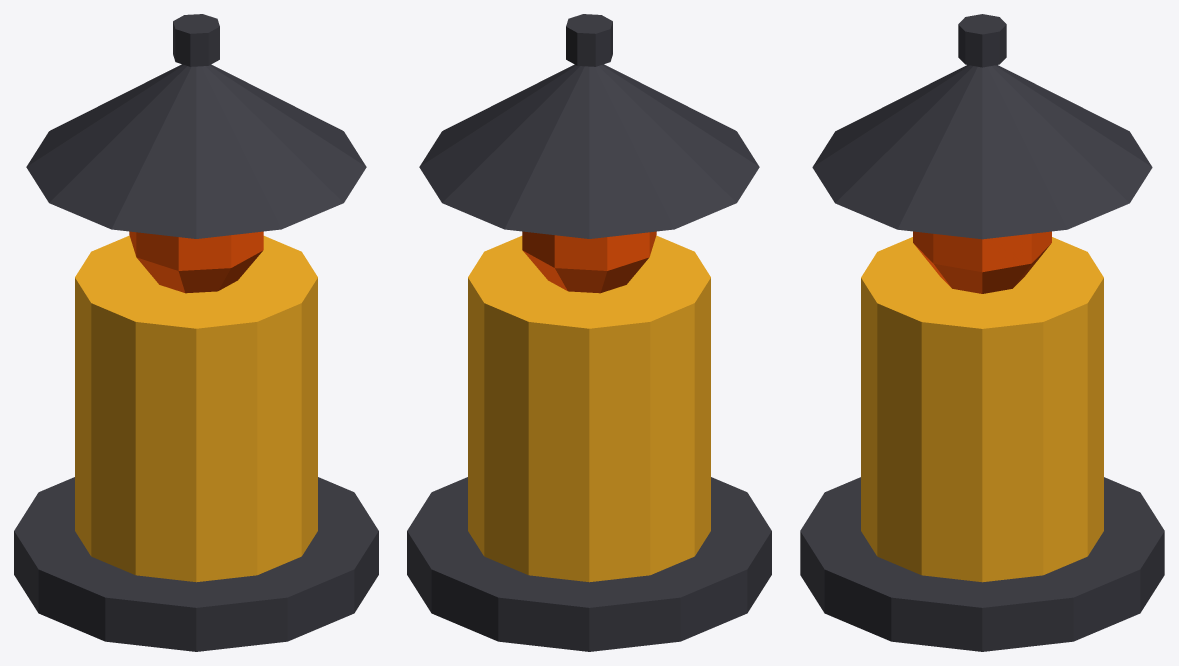
The model's file is lantern.glb.
3 renders of one model, left to right at view 1: azimuth 30°, elevation 25°; view 2: azimuth 150°, elevation 25°; view 3: azimuth 270°, elevation 25°, orthographic.
Visible parts, largest first — view 1: Lantern; view 2: Lantern; view 3: Lantern.
Boxes of the visible parts, box(x1,y1,x2,y2) form: Lantern: box(14, 14, 378, 651); Lantern: box(407, 14, 771, 651); Lantern: box(800, 14, 1164, 651).
Bounding box in the file's own units: 0.3 × 0.5 × 0.3.
